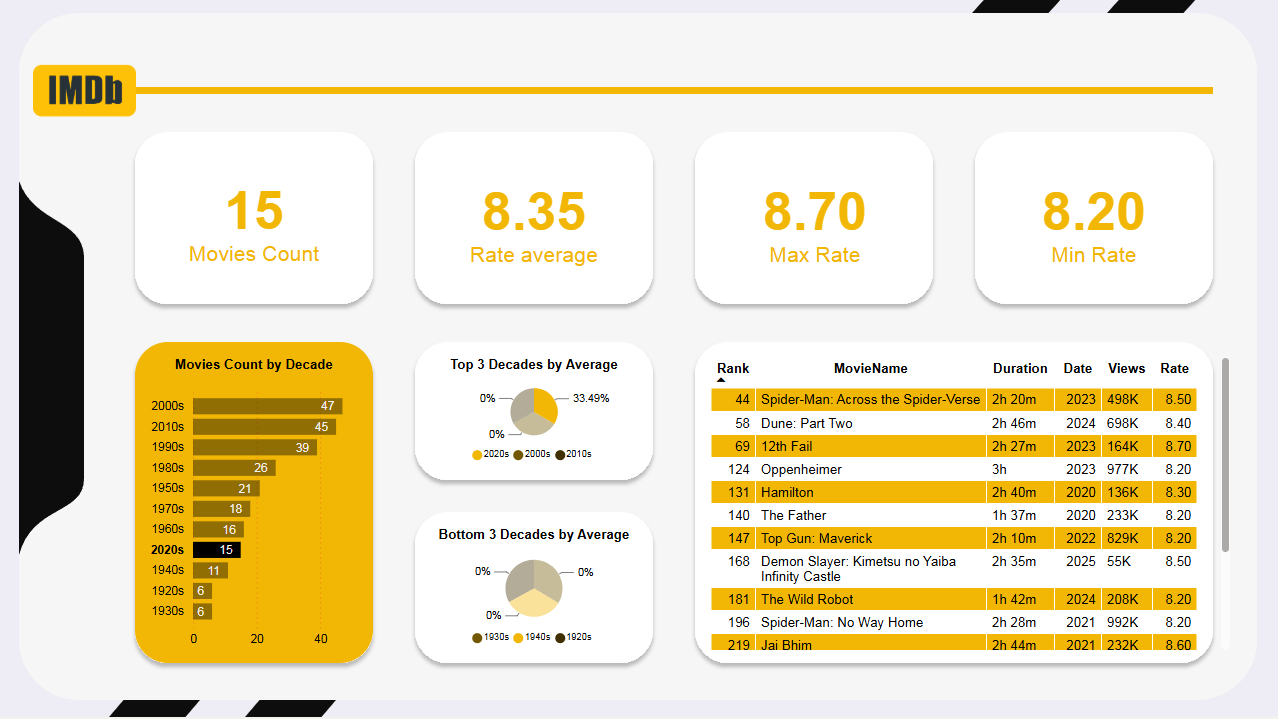

Layout of this report page (visuals, bound fields, positions):
{"tool":"powerbi","page":{"name":"Overview","canvas":[1280,720],"ordinal":0},"visuals":[{"type":"image","box":[20,23,133,133],"z":0},{"type":"card","title":"Number of Movies","fields":{"Values":["Top 250 imdb Movie.Movies Count"]},"box":[136,133,240,173],"z":1000},{"type":"card","title":"Number of Movies","fields":{"Values":["Top 250 imdb Movie.Rate average"]},"box":[416,134,240,173],"z":2000},{"type":"card","title":"Number of Movies","fields":{"Values":["Top 250 imdb Movie.Max Rate"]},"box":[697,134,240,173],"z":3000},{"type":"card","title":"Number of Movies","fields":{"Values":["Top 250 imdb Movie.Min Rate"]},"box":[976,134,240,173],"z":4000},{"type":"tableEx","fields":{"Values":["Top 250 imdb Movie.Rank","Top 250 imdb Movie.MovieName","Top 250 imdb Movie.Duration","Top 250 imdb Movie.Date","Top 250 imdb Movie.Views","Top 250 imdb Movie.Rate"]},"box":[697,343,550,323],"z":5000},{"type":"barChart","fields":{"Category":["Top 250 imdb Movie.Decade"],"Y":["Top 250 imdb Movie.Movies Count"]},"box":[136,343,240,323],"z":6000},{"type":"pieChart","title":"Top 3 Decades by Average","fields":{"Category":["Top 250 imdb Movie.Decade"],"Y":["Top 250 imdb Movie.Rate average"]},"box":[416,343,240,140],"z":7000},{"type":"pieChart","title":"Bottom 3 Decades by Average","fields":{"Category":["Top 250 imdb Movie.Decade"],"Y":["Top 250 imdb Movie.Rate average"]},"box":[416,513,240,153],"z":8000}]}

Visuals, with their boxes in screenshot pixels (x1, y1, x2, y2), scaled from the page's 1280x720 canvas onto the 1278x719 screenshot:
image: [left=20, top=23, right=153, bottom=156]
"Number of Movies" card: [left=136, top=133, right=375, bottom=306]
"Number of Movies" card: [left=415, top=134, right=655, bottom=307]
"Number of Movies" card: [left=696, top=134, right=936, bottom=307]
"Number of Movies" card: [left=974, top=134, right=1214, bottom=307]
tableEx - Top 250 imdb Movie.Rank x Top 250 imdb Movie.MovieName: [left=696, top=343, right=1245, bottom=665]
barChart - Top 250 imdb Movie.Decade x Top 250 imdb Movie.Movies Count: [left=136, top=343, right=375, bottom=665]
"Top 3 Decades by Average" pieChart: [left=415, top=343, right=655, bottom=482]
"Bottom 3 Decades by Average" pieChart: [left=415, top=512, right=655, bottom=665]
